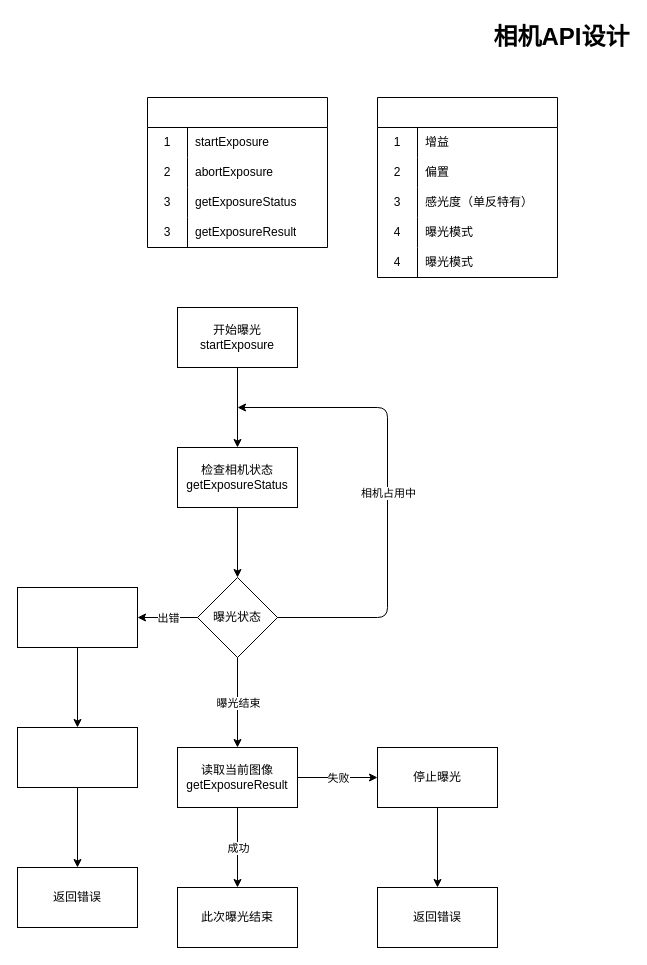
Some shapes in this 647 by 965 pixel diagram are drawn without their labels. Each missing label, with the box of its shape:
再次检查相机状态: (16, 726, 138, 788)
参数: (376, 96, 558, 278)
尝试结束此次曝光 abortExposure: (16, 586, 138, 648)
曝光: (146, 96, 328, 248)
